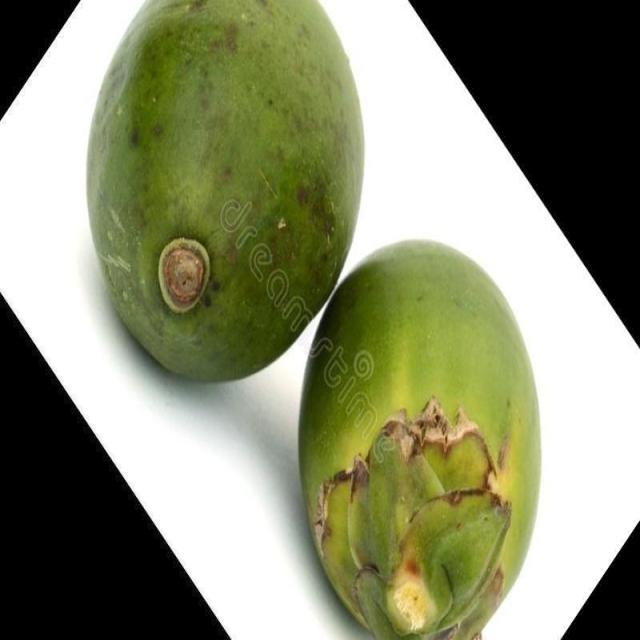good: (84, 0, 366, 386), (297, 241, 545, 639)
